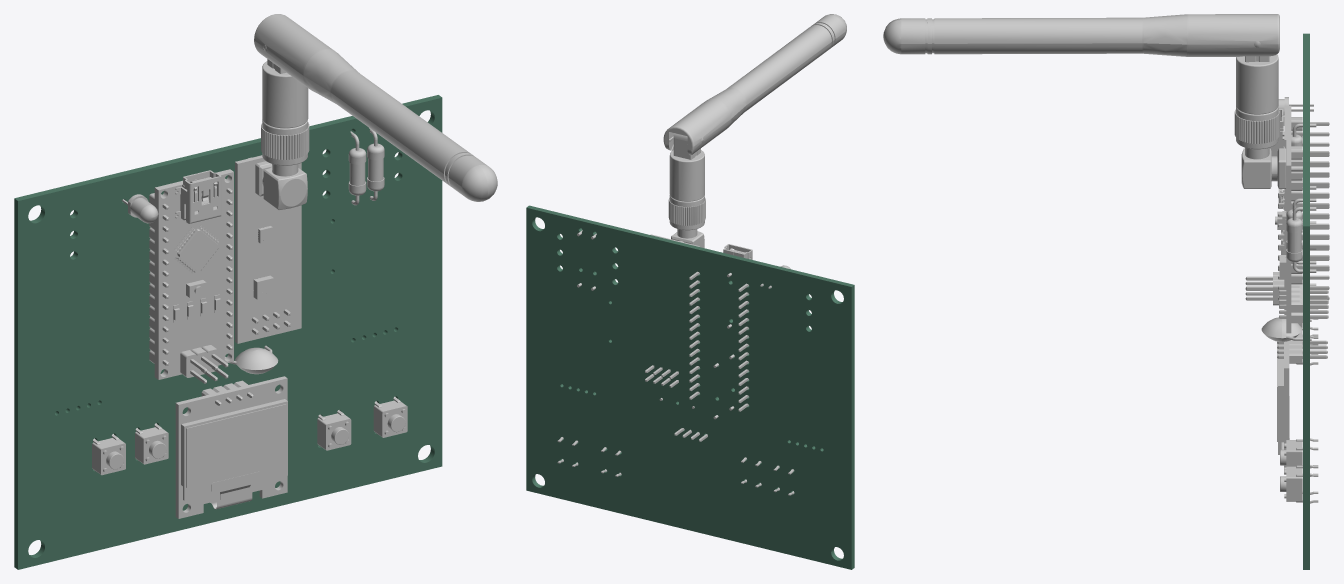
The model's file is nano transmitter.glb.
3 views of the same model, side by side, from view 1: azimuth 30°, elevation 25°; view 2: azimuth 150°, elevation 25°; view 3: azimuth 270°, elevation 25° (orthographic). The views are drawn at different scales.
Parts seen in each view (by area): view 1: empty_195, empty_34, empty_165, empty_4, empty_65, empty_59, empty_33, empty_13, empty_168, empty_35, empty_97, empty_62 (+14 smaller); view 2: empty_195, empty_34, empty_33, empty_35, empty_13; view 3: empty_34, empty_195, empty_33, empty_13, empty_35, empty_4, empty_3, empty_105, empty_41, empty_42, empty_59, empty_167.
Part boxes in pixels (x1,y1,x2,y2): empty_195: (14,95,442,569); empty_34: (254,14,497,201); empty_165: (154,169,233,379); empty_4: (235,155,301,343); empty_65: (193,412,280,476); empty_59: (175,376,287,518); empty_33: (262,59,308,128); empty_13: (248,157,307,209); empty_168: (175,170,221,223); empty_35: (261,119,309,165); empty_97: (183,400,287,500); empty_62: (186,404,286,487); empty_195: (526,205,854,569); empty_34: (663,14,846,155); empty_33: (669,133,704,201); empty_35: (668,195,705,230); empty_13: (671,229,704,248); empty_34: (883,14,1279,56); empty_195: (1303,33,1309,569); empty_33: (1236,54,1278,114); empty_13: (1241,147,1302,188); empty_35: (1234,106,1279,149); empty_4: (1286,136,1291,333); empty_3: (1286,207,1316,272); empty_105: (1280,465,1318,503); empty_41: (1261,317,1311,341); empty_42: (1280,438,1318,476); empty_59: (1284,341,1289,474); empty_167: (1291,146,1302,285).
Bounding box in the file's own units: 101 × 115 × 98.95.
